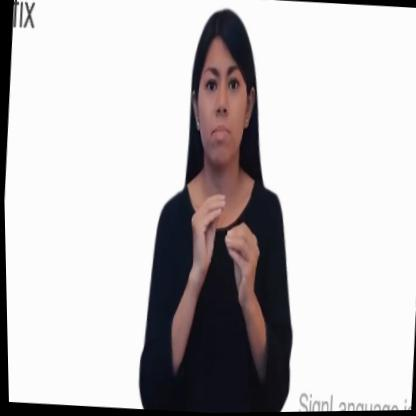Fix: (129, 3, 310, 414)
